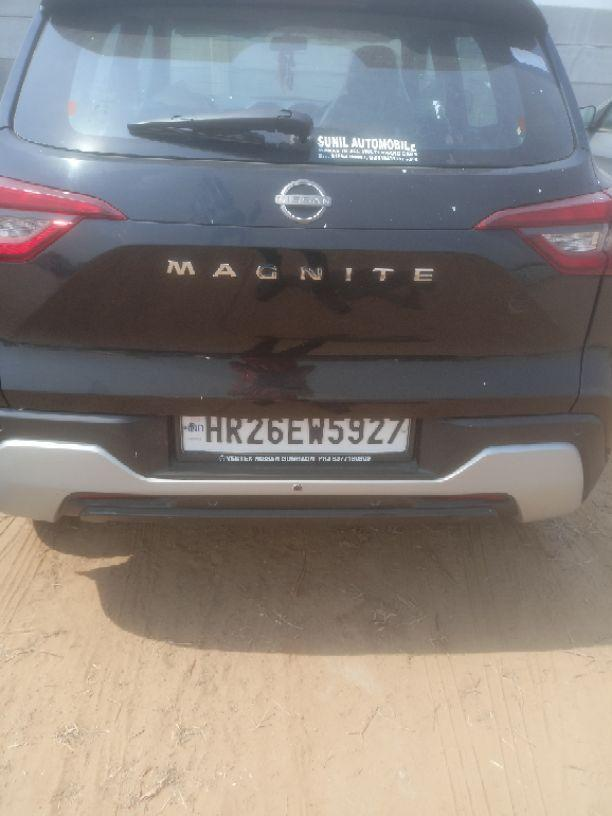license_plate: (170, 412, 418, 465)
